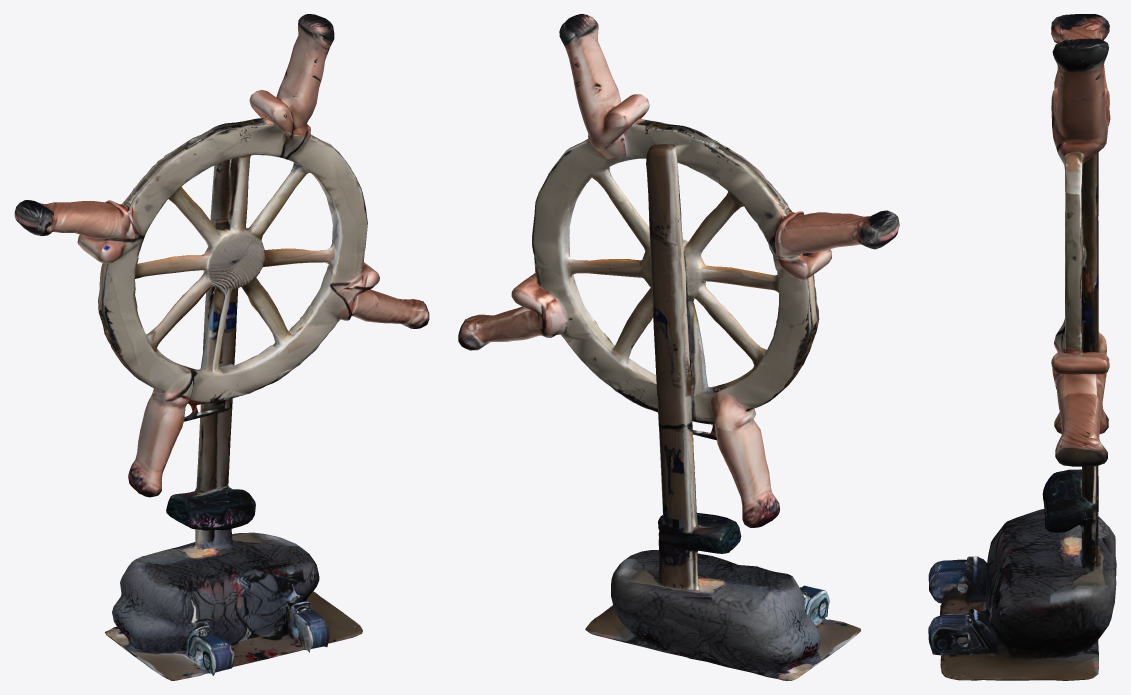
3 renders of one model, left to right at view 1: azimuth 30°, elevation 25°; view 2: azimuth 150°, elevation 25°; view 3: azimuth 270°, elevation 25°, orthographic. The views are drawn at different scales.
Visible parts, largest first — view 1: geometry_0; view 2: geometry_0; view 3: geometry_0.
Part boxes in pixels (x1,y1,x2,y2): geometry_0: (14,14,429,680); geometry_0: (458,14,899,680); geometry_0: (928,14,1116,680).
Size of the model in its own units: 1.41 by 1.9 by 0.5003.
Materials: 1 (1 with a texture image).
